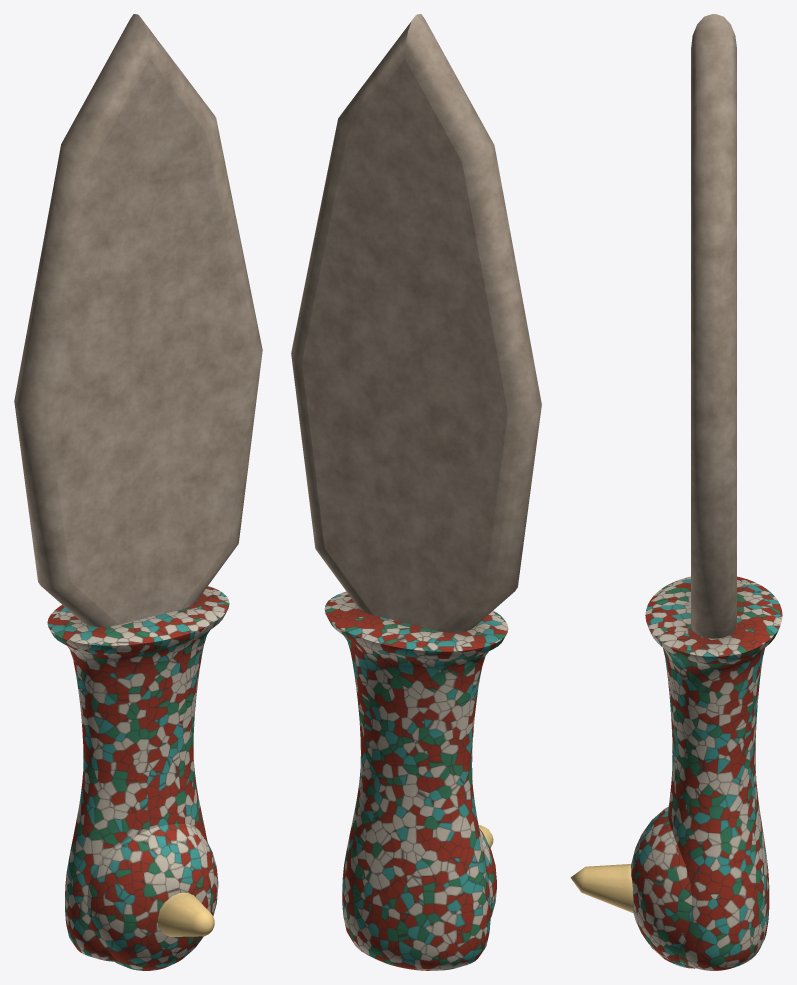
File: tecpatl.glb
3 renders of one model, left to right at view 1: azimuth 30°, elevation 25°; view 2: azimuth 150°, elevation 25°; view 3: azimuth 270°, elevation 25°, orthographic.
Visible parts, largest first — view 1: tecpatl; view 2: tecpatl; view 3: tecpatl.
Part boxes in pixels (bbox=[...]): tecpatl: bbox=[14, 14, 262, 970]; tecpatl: bbox=[291, 14, 541, 970]; tecpatl: bbox=[570, 14, 782, 970].
Bounding box in the file's own units: 0.0852 × 0.3181 × 0.0645.
Materials: 1 (1 with a texture image).
